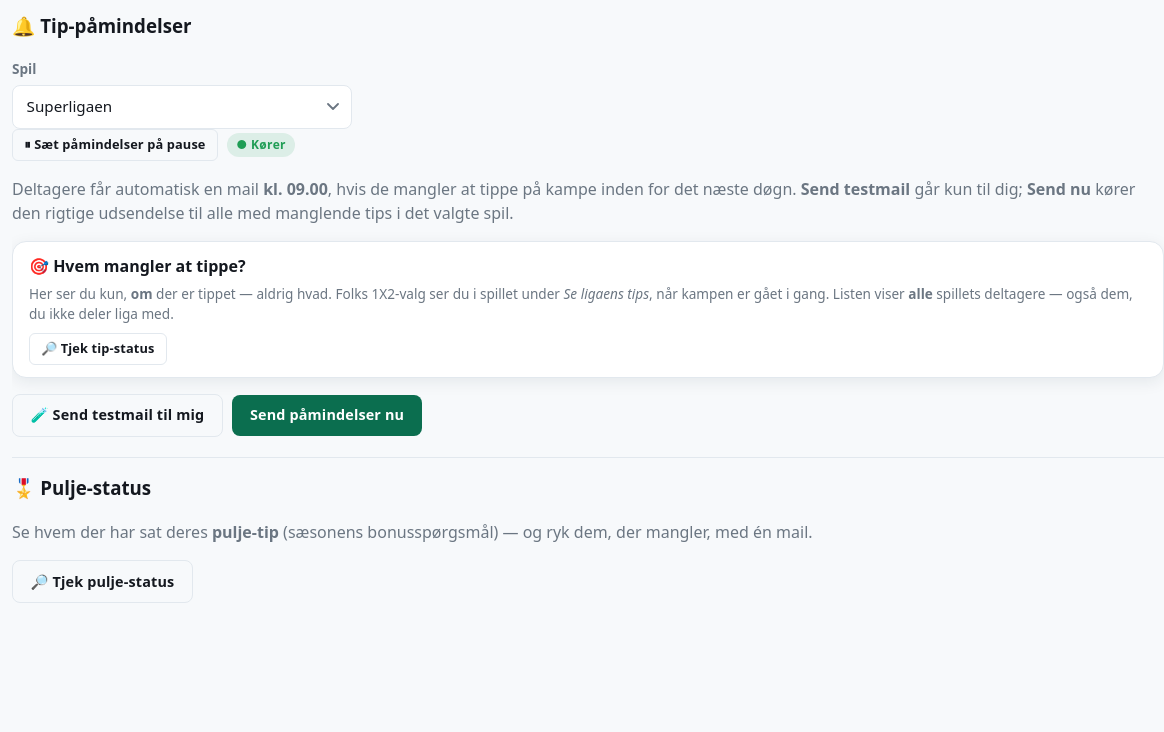
it: pause-nødstop › viser serverens fejl, hvis pausen ikke kunne skrives
The image size is (1164, 732).
Step 1. Click the button "⏸ Sæt påmindelser på pause" → (115, 145), box [12,129,218,161]
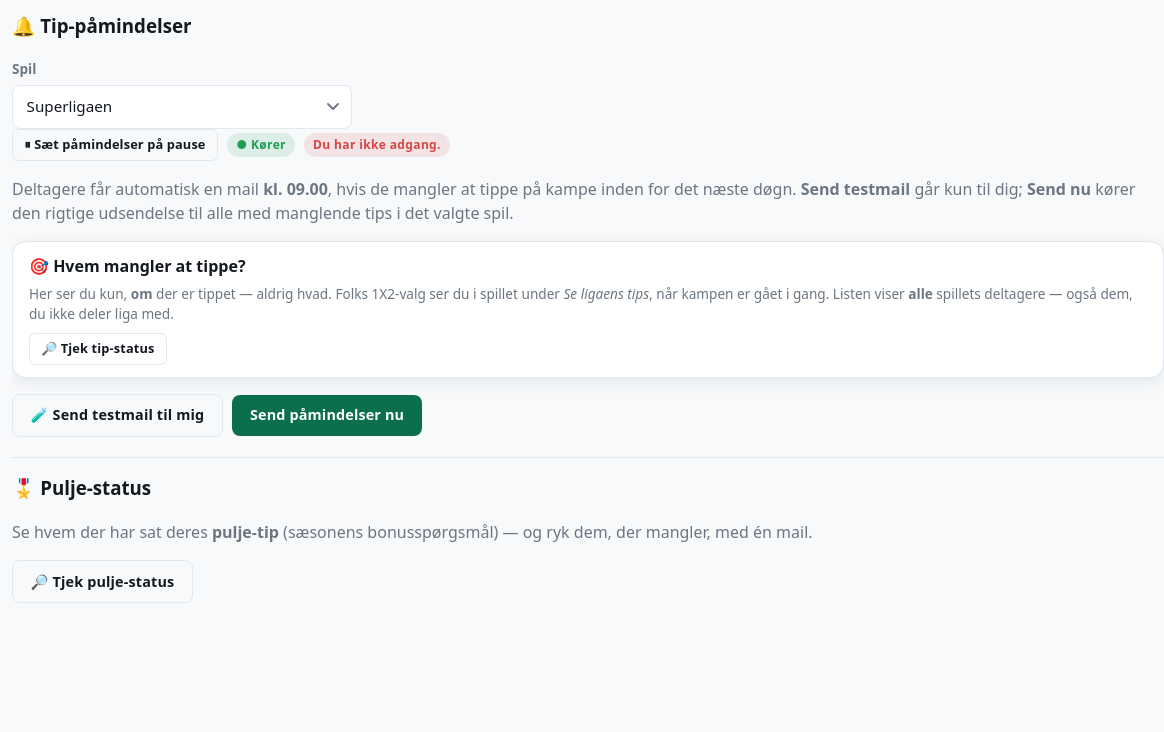
Expected: the text "Du har ikke adgang." is shown, [304,133,450,157]
